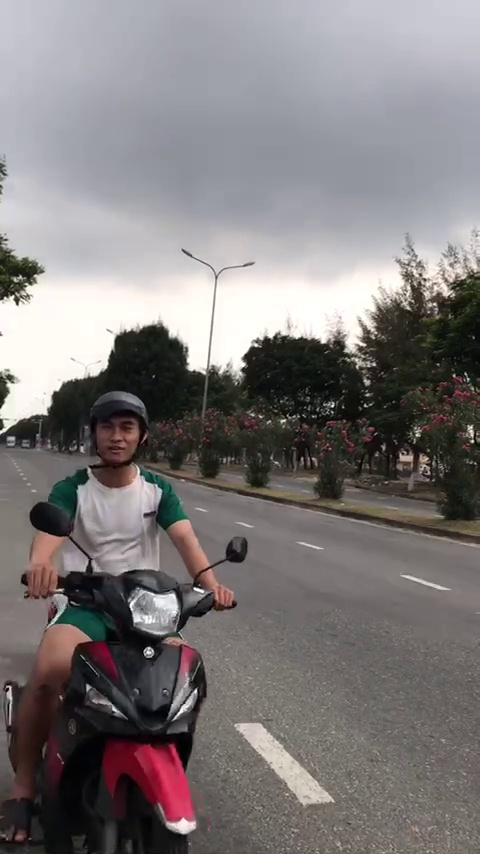helmet: (90, 391, 148, 493)
